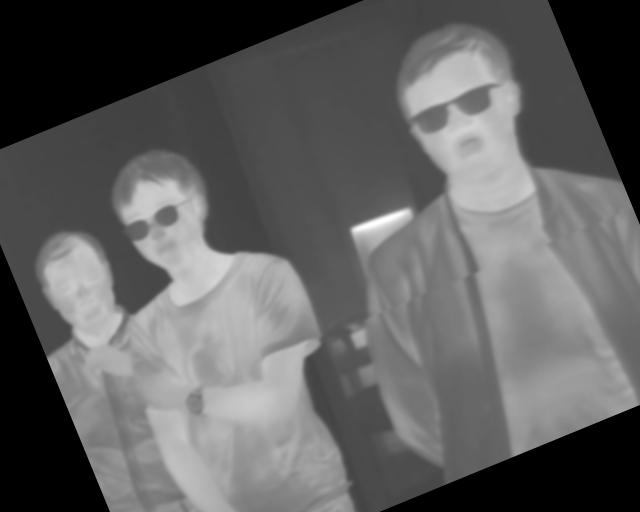face: (375, 4, 549, 199), (95, 133, 231, 285), (21, 215, 134, 349)
